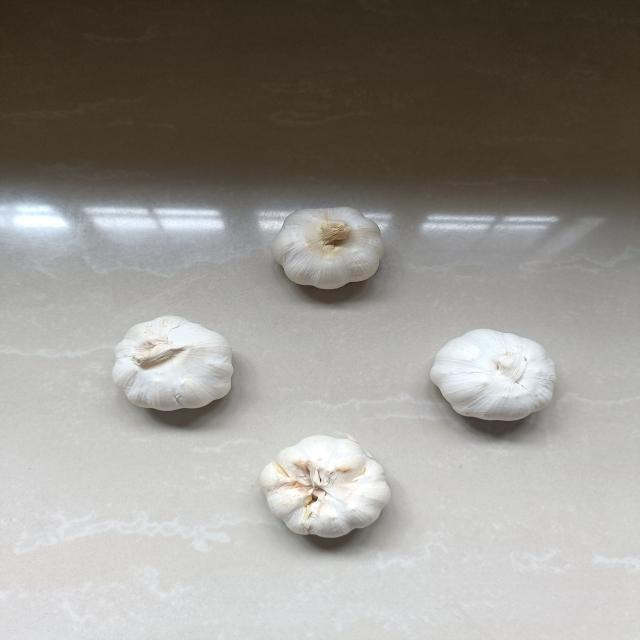garlic: (252, 431, 395, 546), (427, 325, 559, 426), (107, 313, 238, 414), (270, 200, 389, 293)
